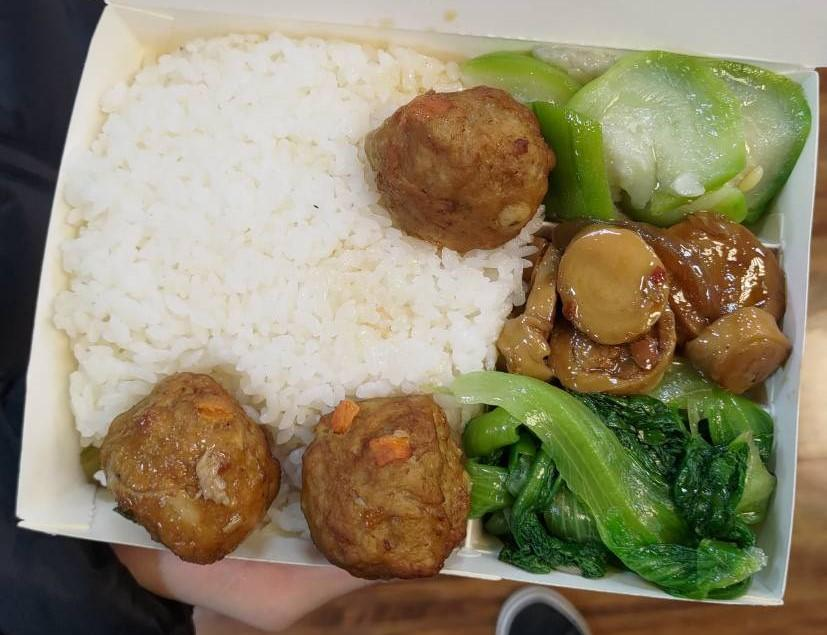big grilled chicken leg: (6, 6, 824, 622)
big herbal chicken leg: (62, 35, 513, 474)
braised fish fillet: (460, 369, 780, 601), (486, 37, 810, 233), (495, 219, 785, 385)
braised pork: (86, 89, 550, 581)
